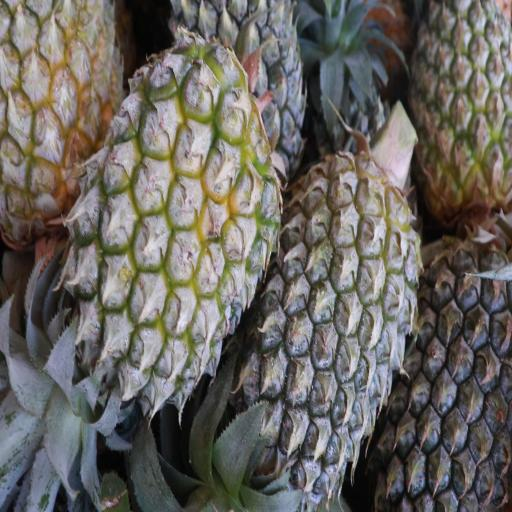------------------------------: (86, 74, 280, 413), (0, 0, 136, 236), (412, 0, 512, 221)
